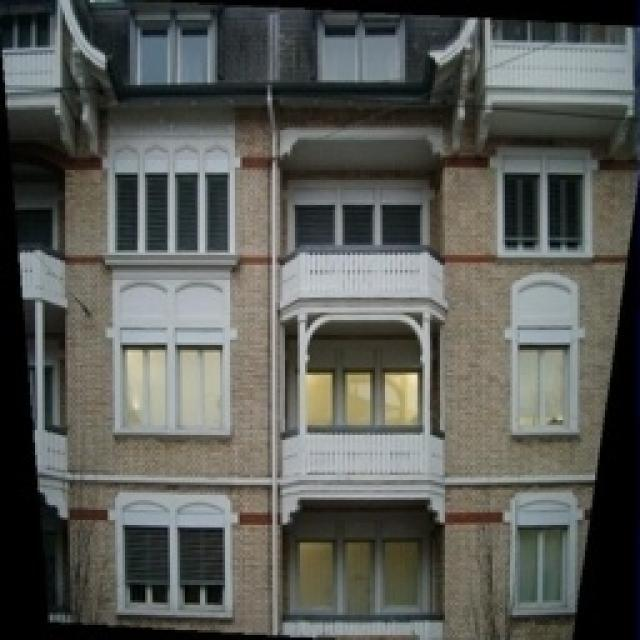Window: (175, 172, 228, 250), (122, 522, 170, 608), (180, 528, 228, 608), (122, 344, 166, 428), (178, 344, 222, 428), (117, 175, 165, 250), (517, 530, 565, 605), (518, 345, 562, 425), (502, 175, 538, 250), (132, 12, 170, 82), (175, 10, 210, 80), (320, 14, 355, 78), (382, 540, 416, 605), (550, 172, 580, 245), (362, 20, 398, 78), (300, 542, 332, 606), (345, 542, 373, 612), (387, 370, 415, 425), (305, 372, 335, 422), (382, 205, 420, 243), (295, 208, 330, 248), (348, 370, 372, 422), (342, 202, 370, 242)
